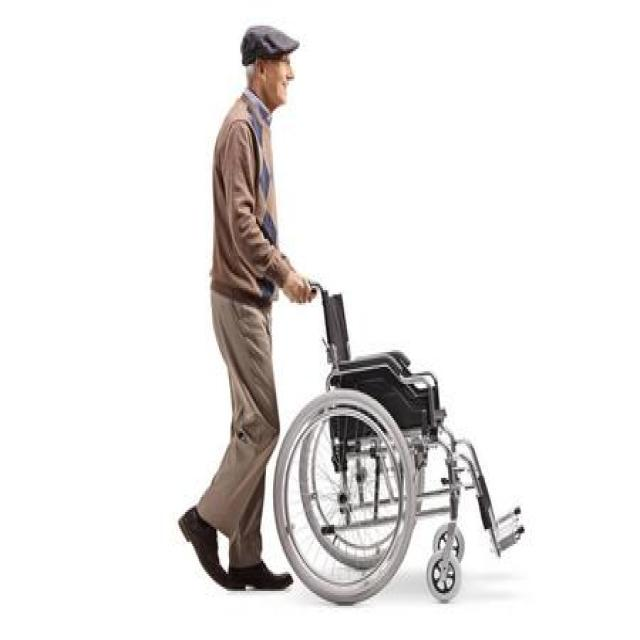wheelchairs: (267, 264, 534, 625)
